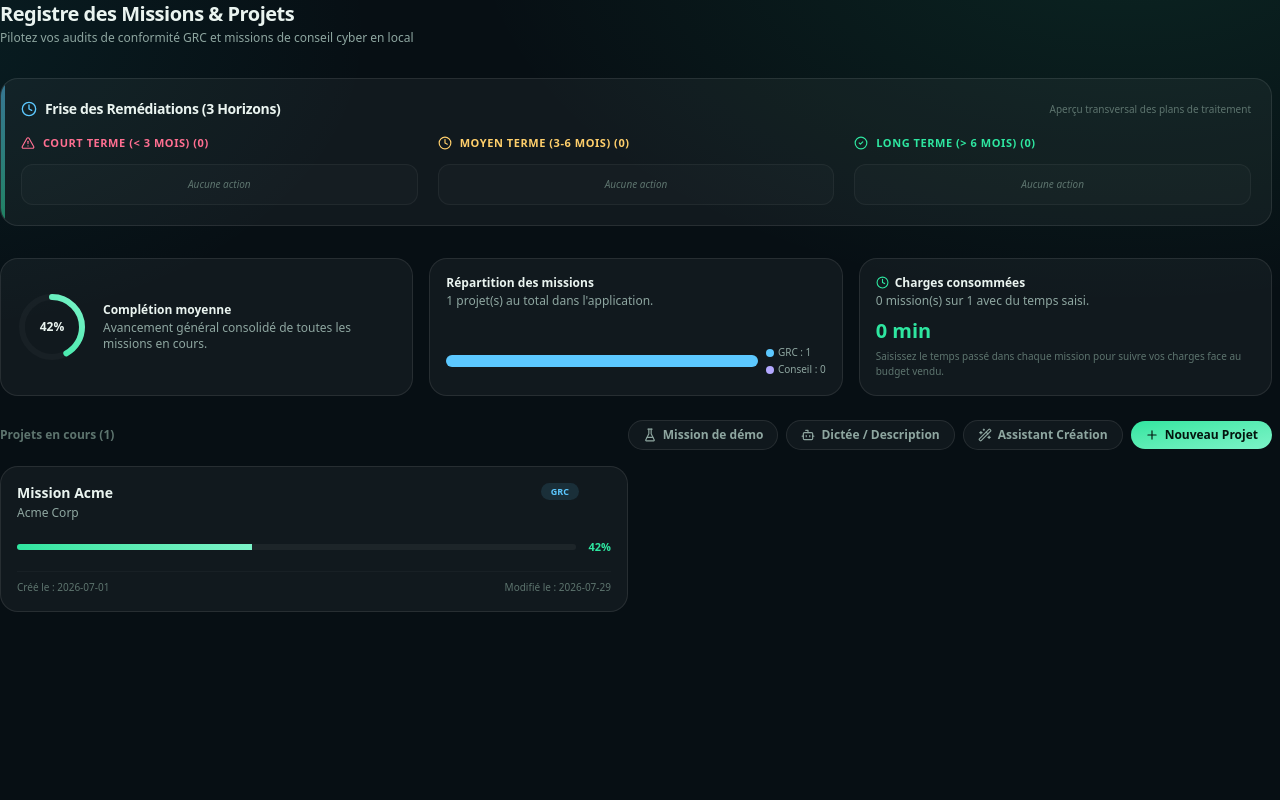
Projects — caractérisation avant découpage › ouvre une mission et affiche le stepper des 6 phases
The width and height of the screenshot is (1280, 800).
Click the heading "Mission Acme": [65, 492] box [17, 482, 113, 502]
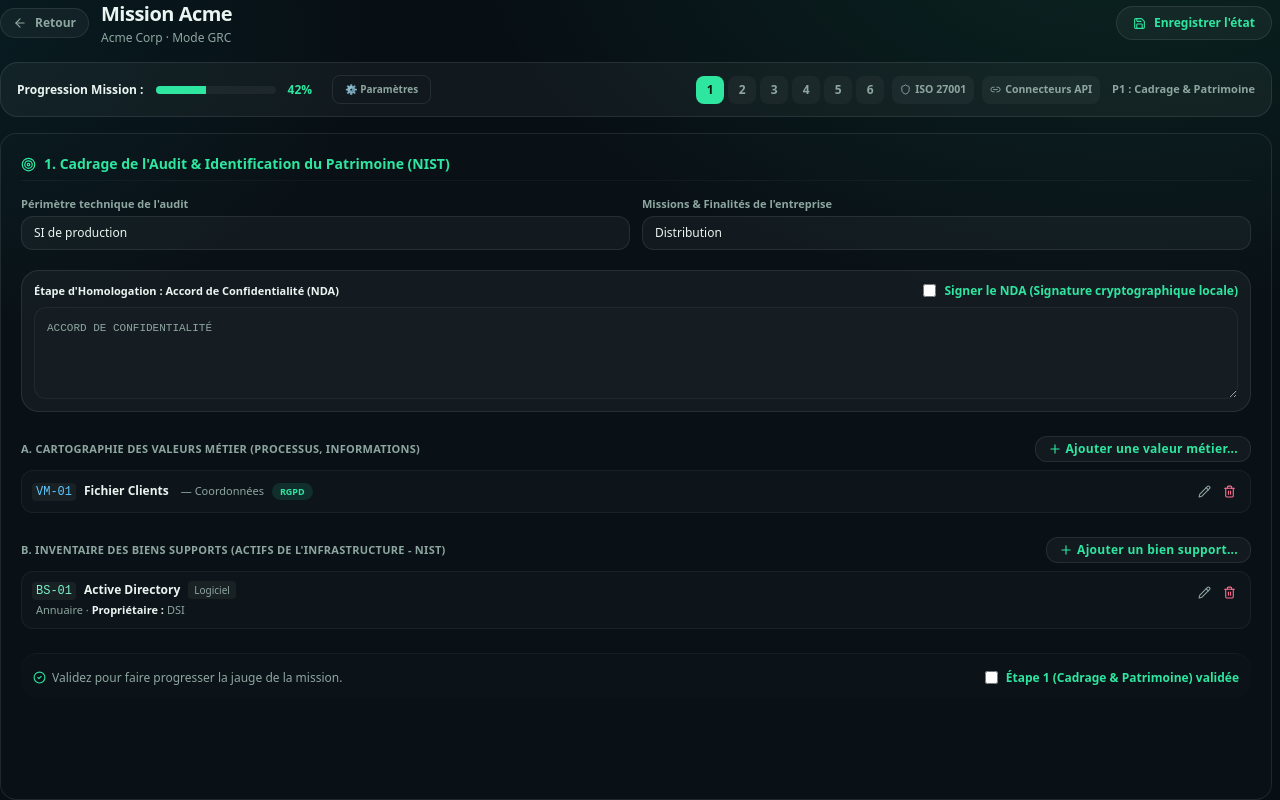
Now the text "Progression Mission :" is shown, box [17, 82, 144, 98]
